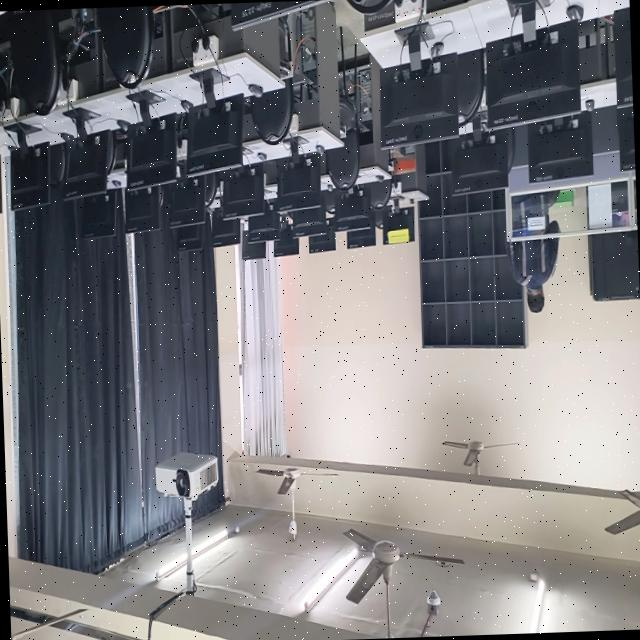Chair: (9, 9, 60, 115), (96, 6, 154, 89), (326, 91, 359, 191), (456, 48, 484, 125), (369, 179, 392, 210), (347, 0, 393, 14), (505, 0, 538, 6)
Cpu: (294, 9, 316, 85), (357, 64, 372, 130)
Light: (303, 549, 358, 611), (193, 528, 228, 559), (529, 571, 546, 633), (155, 555, 186, 579)
Monitor: (485, 21, 580, 127), (380, 53, 458, 148), (186, 95, 244, 176), (528, 113, 593, 182), (451, 129, 514, 195), (127, 113, 179, 190), (64, 130, 115, 199), (230, 0, 327, 30), (10, 143, 50, 211), (276, 154, 321, 210), (221, 162, 265, 218), (613, 7, 633, 108), (81, 189, 117, 239), (334, 187, 374, 231), (170, 177, 205, 227), (125, 186, 163, 232), (292, 196, 326, 237), (248, 200, 279, 242), (617, 106, 635, 170), (383, 207, 414, 244), (212, 209, 240, 246), (274, 217, 299, 257), (347, 215, 376, 249), (308, 220, 335, 253), (176, 222, 204, 251), (241, 230, 265, 260)
Mouse: (566, 4, 583, 21), (430, 42, 444, 59), (248, 84, 263, 97), (180, 100, 193, 112), (116, 120, 128, 133), (585, 99, 595, 112), (315, 144, 324, 154), (257, 154, 266, 161), (375, 175, 384, 181), (62, 137, 66, 142)
Projector: (155, 452, 218, 500)
